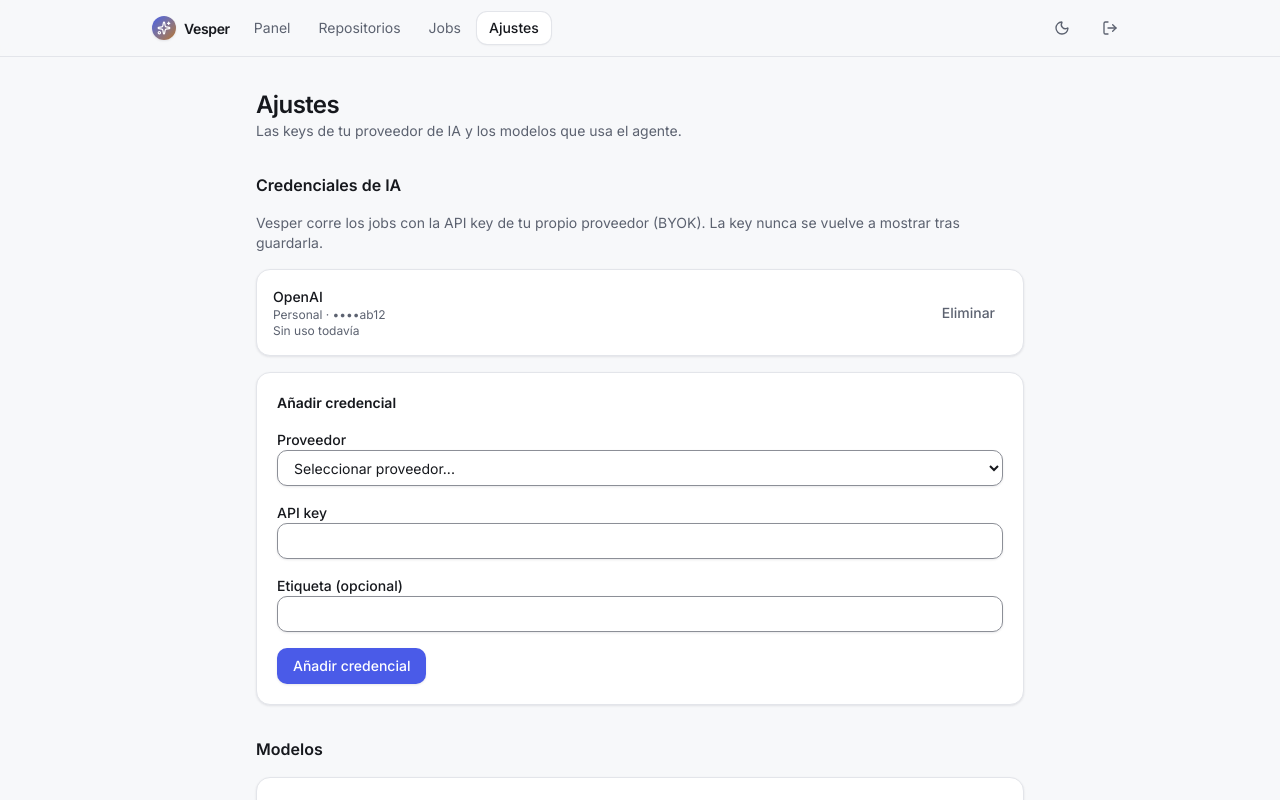
Test: SettingsPage › borra una credencial tras confirmar
Expected: the text "Personal · ••••ab12" is shown, [273,307,386,323]
Click the button "Eliminar": (968, 312) [930,296,1007,328]
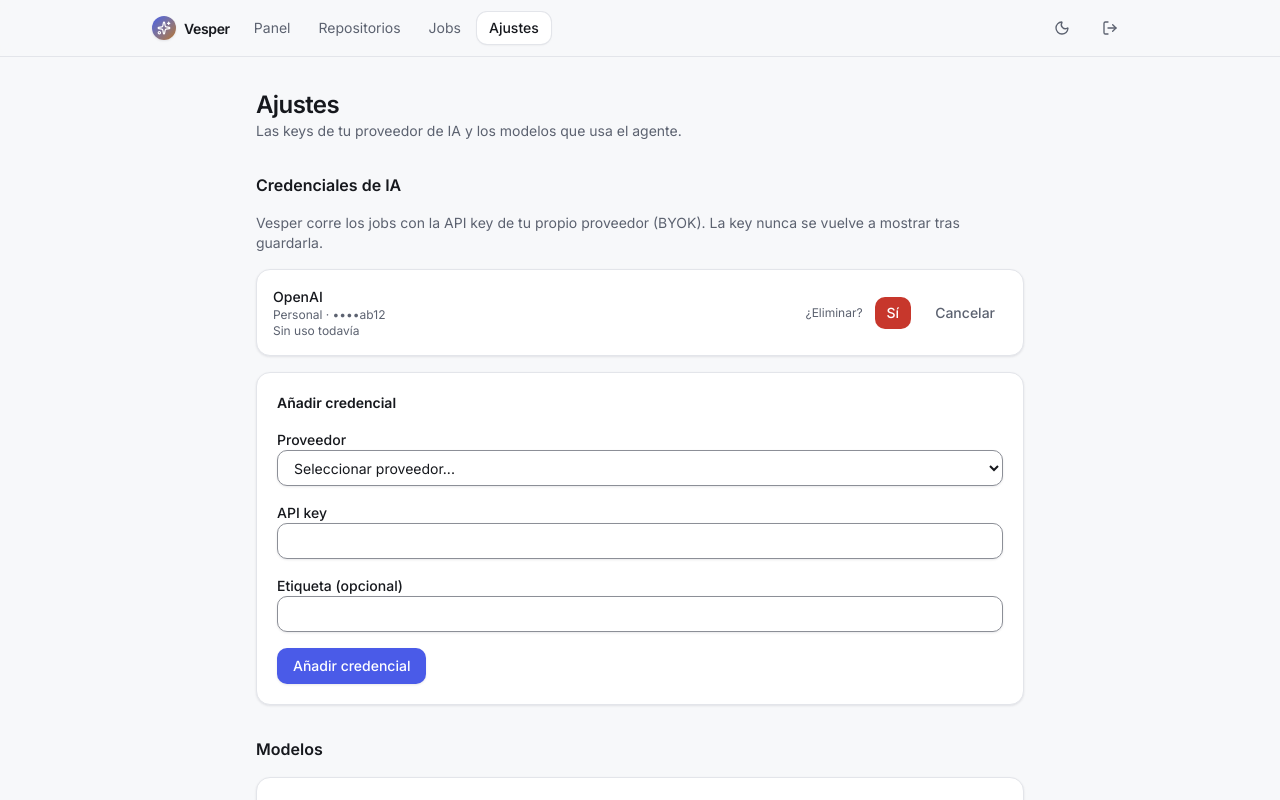
Click the button "Sí": (893, 312) [875,296,911,328]
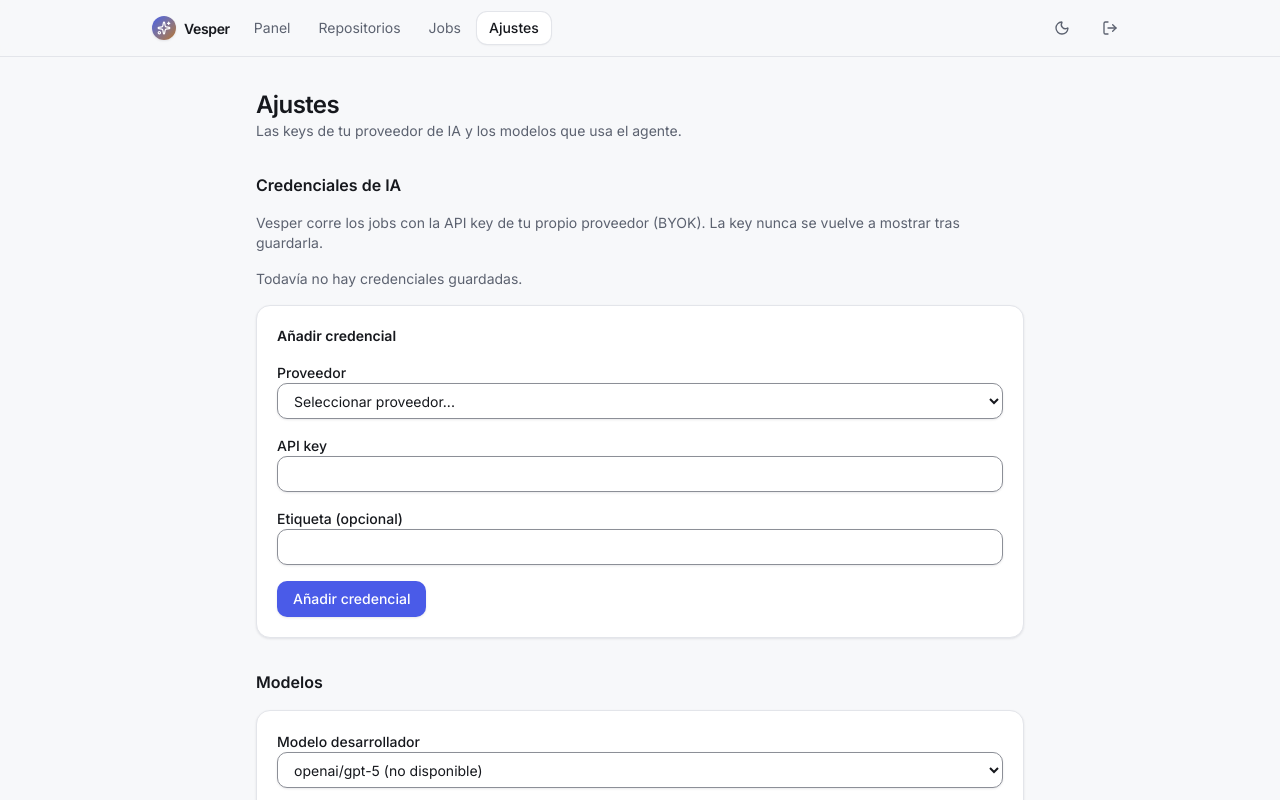
Now the text "Personal · ••••ab12" is gone
